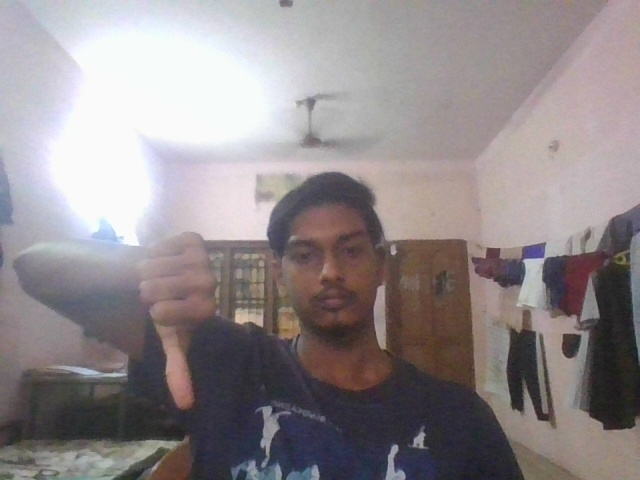thumbsdown: (138, 229, 220, 415)
